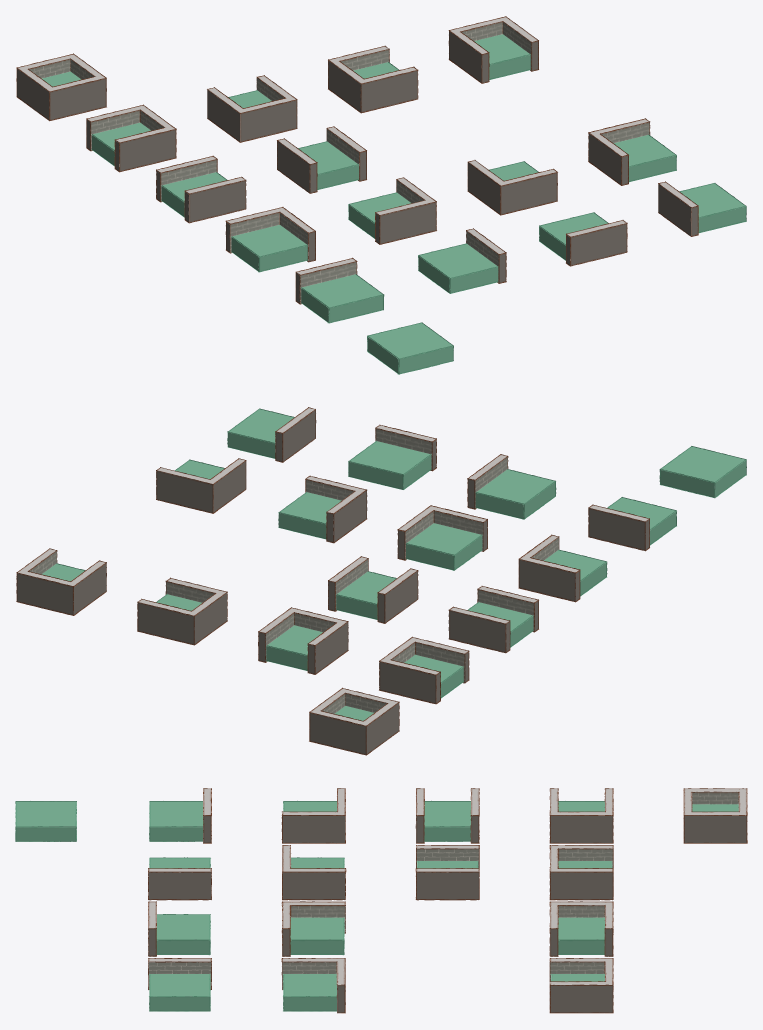
Rendered from Water.fbx.
The picture shows the model from 3 angles, top to bottom: view 1: azimuth 30°, elevation 25°; view 2: azimuth 150°, elevation 25°; view 3: azimuth 270°, elevation 25°; orthographic projection. The views are drawn at different scales.
Parts seen in each view (by area): view 1: Water-15, Water-11, Water-14, Water-5, Water-13, Water-9, Water-12, Water-8, Water-10, Water-1, Water-6, Water-7 (+4 smaller); view 2: Water-15, Water-11, Water-12, Water-6, Water-13, Water-9, Water-14, Water-7, Water-10, Water-3, Water-5, Water-2 (+4 smaller); view 3: Water-15, Water-14, Water-12, Water-10, Water-13, Water-7, Water-8, Water-4, Water-11, Water-6, Water-9, Water-5 (+4 smaller).
Part boxes in pixels (bbox=[...]): Water-15: bbox=[16, 53, 106, 121]; Water-11: bbox=[86, 104, 176, 172]; Water-14: bbox=[448, 16, 538, 83]; Water-5: bbox=[225, 207, 315, 272]; Water-13: bbox=[328, 45, 418, 113]; Water-9: bbox=[156, 155, 246, 223]; Water-12: bbox=[207, 75, 297, 142]; Water-8: bbox=[588, 118, 676, 185]; Water-10: bbox=[277, 126, 366, 193]; Water-1: bbox=[295, 257, 384, 323]; Water-6: bbox=[348, 177, 436, 244]; Water-7: bbox=[467, 160, 557, 215]; Water-15: bbox=[309, 687, 399, 755]; Water-11: bbox=[379, 636, 469, 704]; Water-12: bbox=[258, 607, 348, 674]; Water-6: bbox=[397, 505, 487, 570]; Water-13: bbox=[137, 577, 227, 645]; Water-9: bbox=[448, 586, 538, 653]; Water-14: bbox=[16, 548, 106, 615]; Water-7: bbox=[278, 475, 367, 543]; Water-10: bbox=[328, 556, 418, 623]; Water-3: bbox=[348, 424, 436, 489]; Water-5: bbox=[518, 534, 607, 602]; Water-2: bbox=[467, 454, 556, 519]; Water-15: bbox=[683, 788, 747, 843]; Water-14: bbox=[549, 958, 613, 1013]; Water-12: bbox=[549, 845, 613, 900]; Water-10: bbox=[415, 845, 479, 900]; Water-13: bbox=[549, 901, 613, 956]; Water-7: bbox=[281, 901, 345, 956]; Water-8: bbox=[281, 958, 345, 1013]; Water-4: bbox=[148, 958, 211, 1011]; Water-11: bbox=[549, 788, 613, 843]; Water-6: bbox=[282, 845, 346, 900]; Water-9: bbox=[415, 788, 479, 843]; Water-5: bbox=[281, 788, 345, 843].
Size of the model in its own units: 3500 by 260 by 5490.
1 material, 1 textured.
